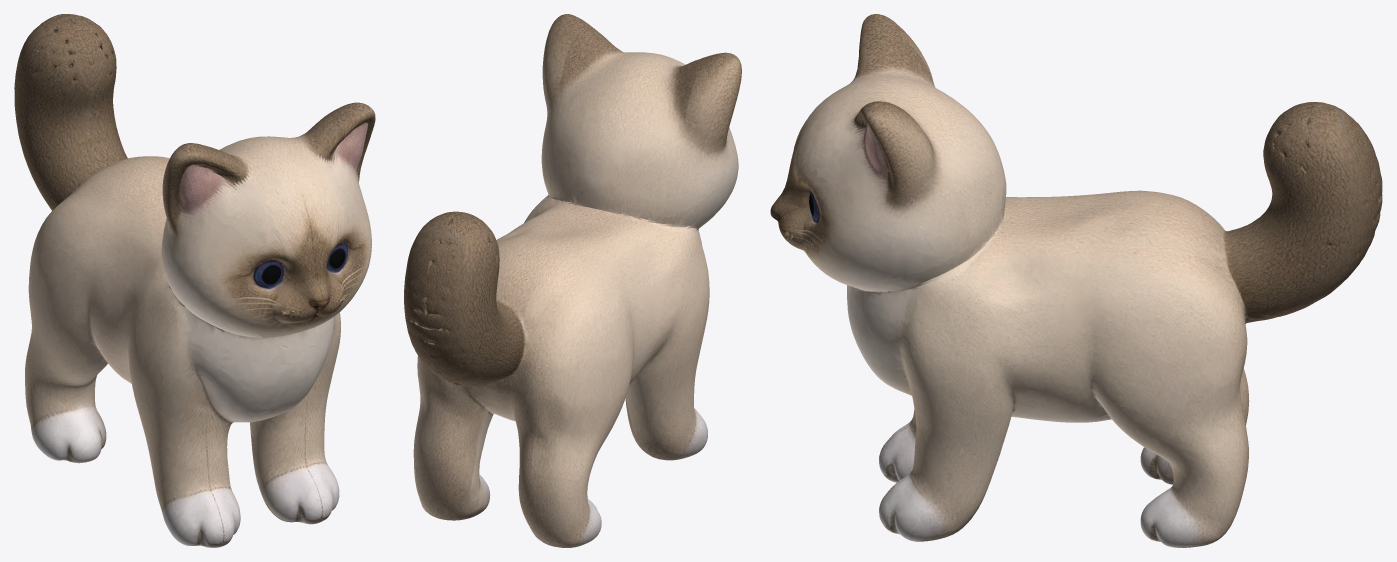
File: meshy-birman.glb
3 views of the same model, side by side, from view 1: azimuth 30°, elevation 25°; view 2: azimuth 150°, elevation 25°; view 3: azimuth 270°, elevation 25° (orthographic). The views are drawn at different scales.
Visible parts, largest first — view 1: Mesh_0; view 2: Mesh_0; view 3: Mesh_0.
Boxes of the visible parts, left/top/right/bottom form: Mesh_0: left=14, top=14, right=375, bottom=547; Mesh_0: left=404, top=14, right=741, bottom=547; Mesh_0: left=770, top=14, right=1382, bottom=547.
Bounding box in the file's own units: 0.7777 × 1.52 × 1.89.
Materials: 1 (1 with a texture image).
